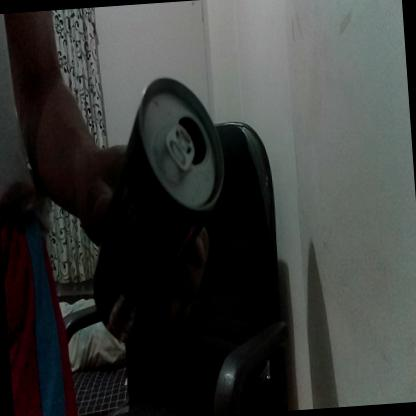alumunium_can: (80, 66, 231, 343)
